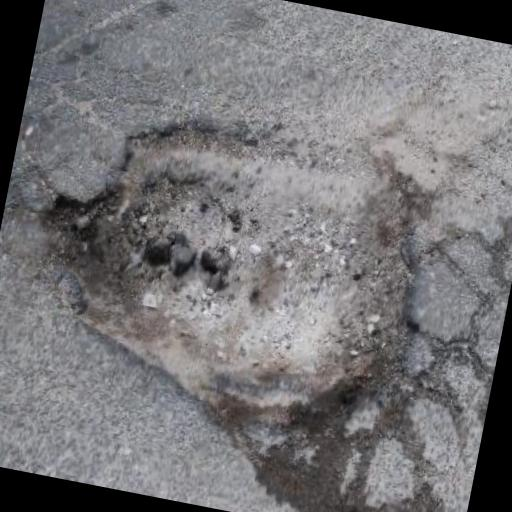pothole: (10, 86, 456, 468)
